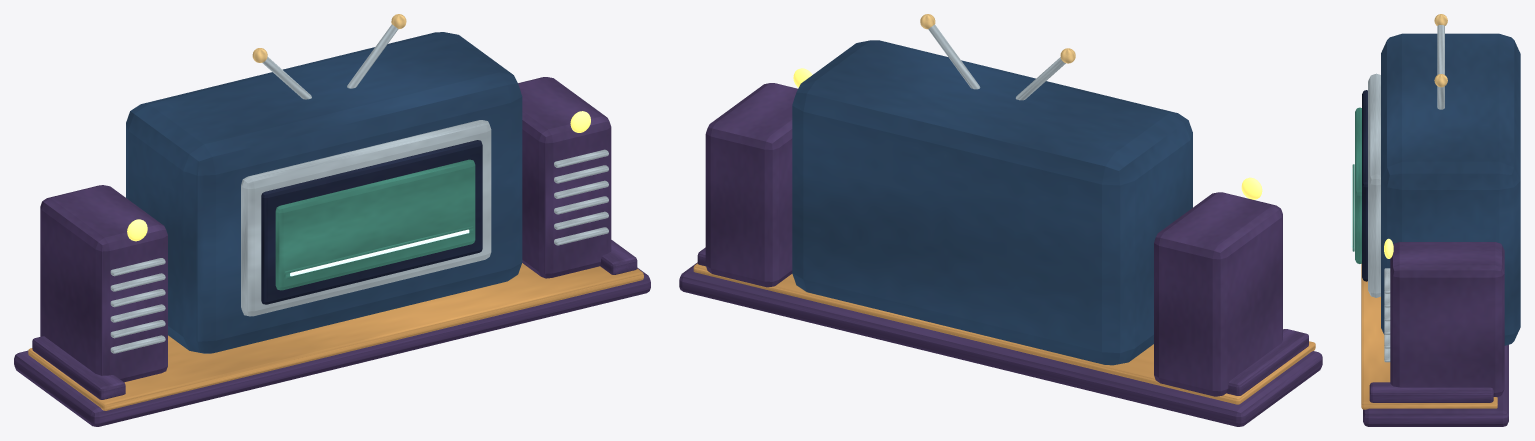
The model's file is WonkaVision-Transmitter.glb.
3 views of the same model, side by side, from view 1: azimuth 30°, elevation 25°; view 2: azimuth 150°, elevation 25°; view 3: azimuth 270°, elevation 25° (orthographic). The views are drawn at different scales.
Parts seen in each view (by area): view 1: WonkaVision-Transmitter | housing, WonkaVision-Transmitter | moving assembly; view 2: WonkaVision-Transmitter | housing; view 3: WonkaVision-Transmitter | housing, WonkaVision-Transmitter | moving assembly.
Boxes of the visible parts, <box> form: WonkaVision-Transmitter | housing: <box>14,14,650,426</box>; WonkaVision-Transmitter | moving assembly: <box>284,226,473,279</box>; WonkaVision-Transmitter | housing: <box>679,14,1322,426</box>; WonkaVision-Transmitter | housing: <box>1355,14,1520,426</box>; WonkaVision-Transmitter | moving assembly: <box>1351,164,1354,251</box>.
Size of the model in its own units: 5.4 by 2.75 by 1.6.
9 materials, 7 textured.
